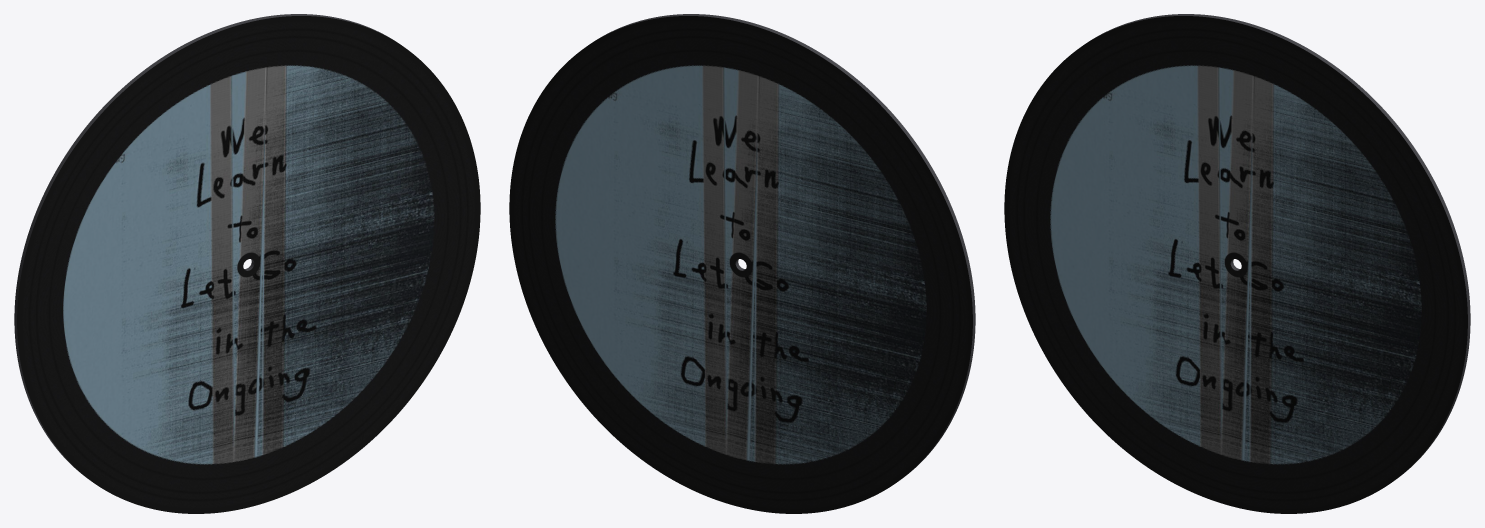
Rendered from 03-good-band-wanderer.glb.
The picture shows the model from 3 angles, left to right: view 1: azimuth 30°, elevation 25°; view 2: azimuth 150°, elevation 25°; view 3: azimuth 330°, elevation 25°; orthographic projection.
Visible parts, largest first — view 1: Record_Front, Record_Rim; view 2: Record_Back, Record_Rim; view 3: Record_Front, Record_Rim.
Part boxes in pixels (x1,y1,x2,y2): Record_Front: (17,16,480,513); Record_Rim: (14,14,398,474); Record_Back: (509,16,972,513); Record_Rim: (591,14,975,474); Record_Front: (1004,16,1467,513); Record_Rim: (1086,14,1470,474).
Size of the model in its own units: 0.3048 by 0.3048 by 0.003.
Materials: 2 (1 with a texture image).
